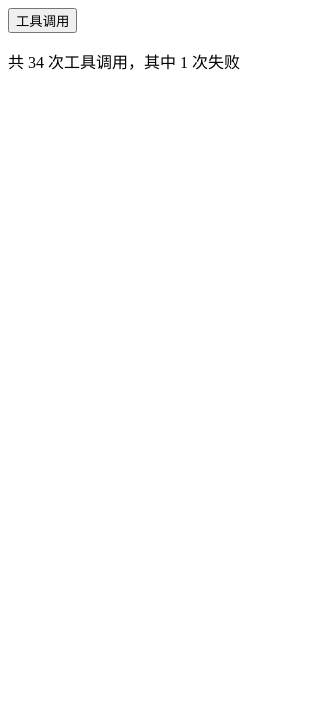
Test: ToolTimeline（工具调用时间线） › 每行带得出工具名与成败：回看要能一眼扫过去
Step 1. Click the button with test id "tool-timeline-toggle" → (43, 20), box [8, 8, 77, 33]
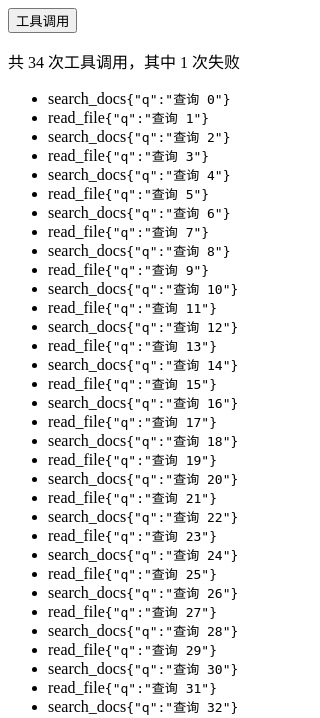
Now the text with test id "tool-timeline-tool" next to "{\"q\":\"查询 7\"}" reads "read_file", box [48, 223, 105, 240]
